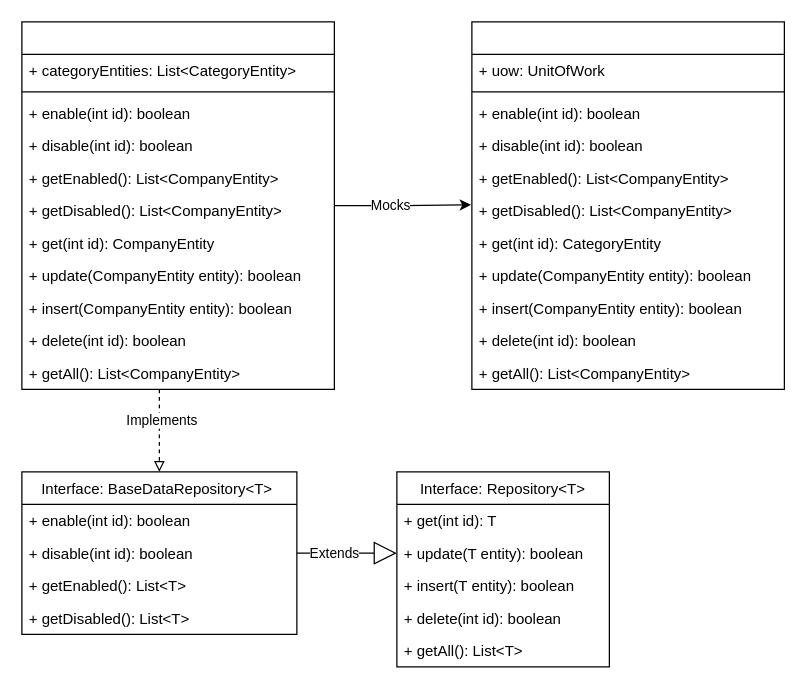
The diagram is 806 pixels wide and 693 high, and some of its shapes have lost their labels. Each missing label, with the box of its shape:
Class: CompanyRepository: (471, 21, 784, 389)
Class: CompanyRepositoryMock: (21, 21, 334, 389)
